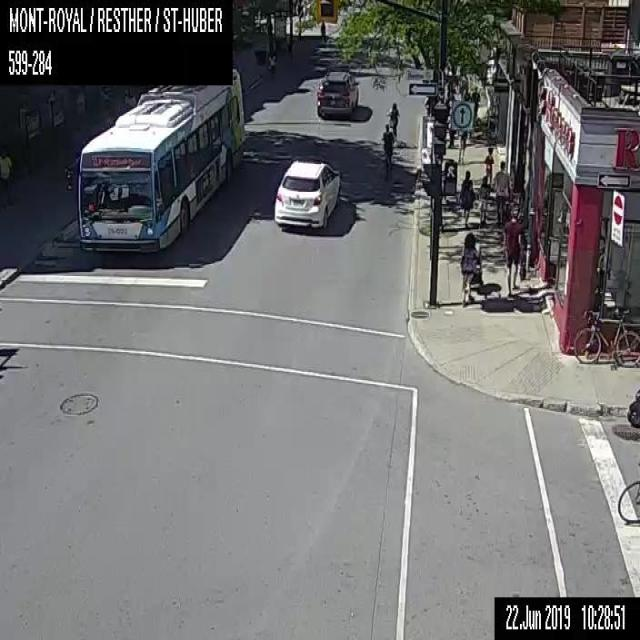bus: (76, 68, 245, 253)
cyclist: (381, 124, 395, 178), (385, 101, 400, 139)
pedestrian: (459, 232, 483, 305), (504, 208, 520, 297), (459, 169, 475, 227), (494, 160, 508, 225), (478, 175, 490, 228), (470, 86, 481, 124), (484, 146, 493, 184), (456, 130, 466, 164), (448, 130, 454, 147), (463, 86, 470, 100)
vehicle: (274, 159, 341, 228), (316, 70, 359, 118)
